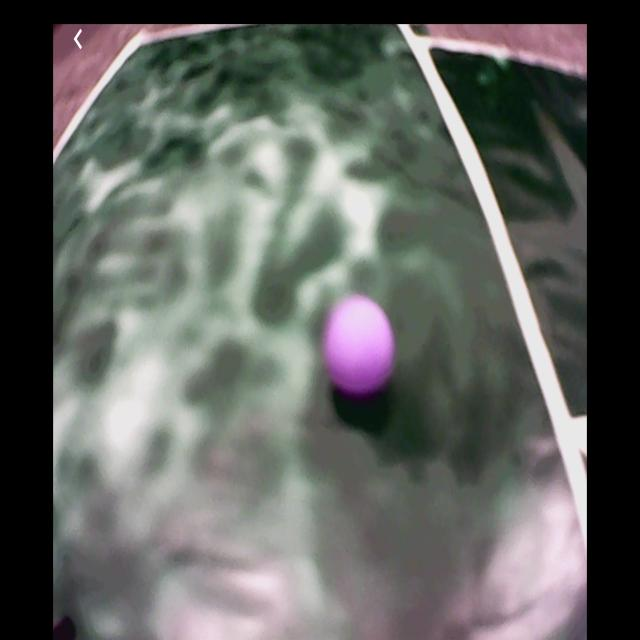ball: (325, 296, 397, 397)
